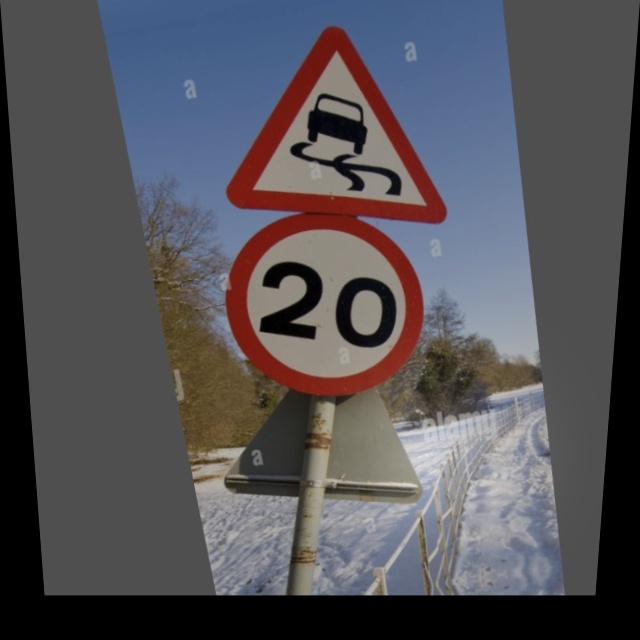Slippery_Road: (207, 12, 447, 241)
